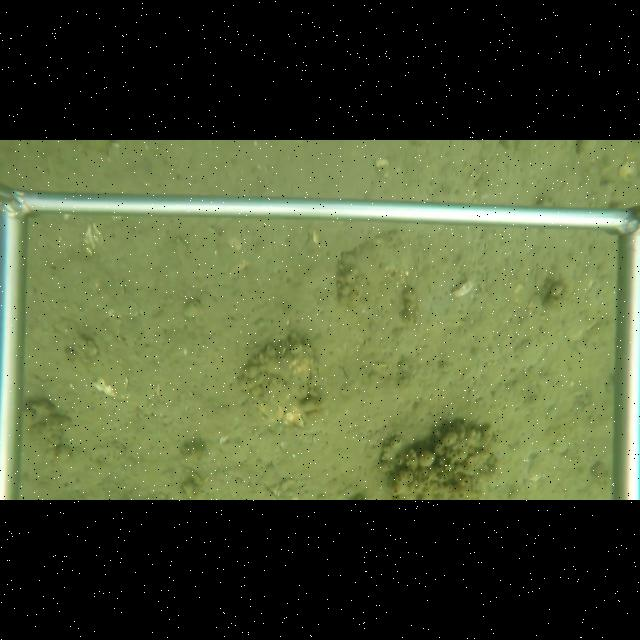Oyster-Closed: (336, 231, 416, 323), (242, 340, 312, 430)
